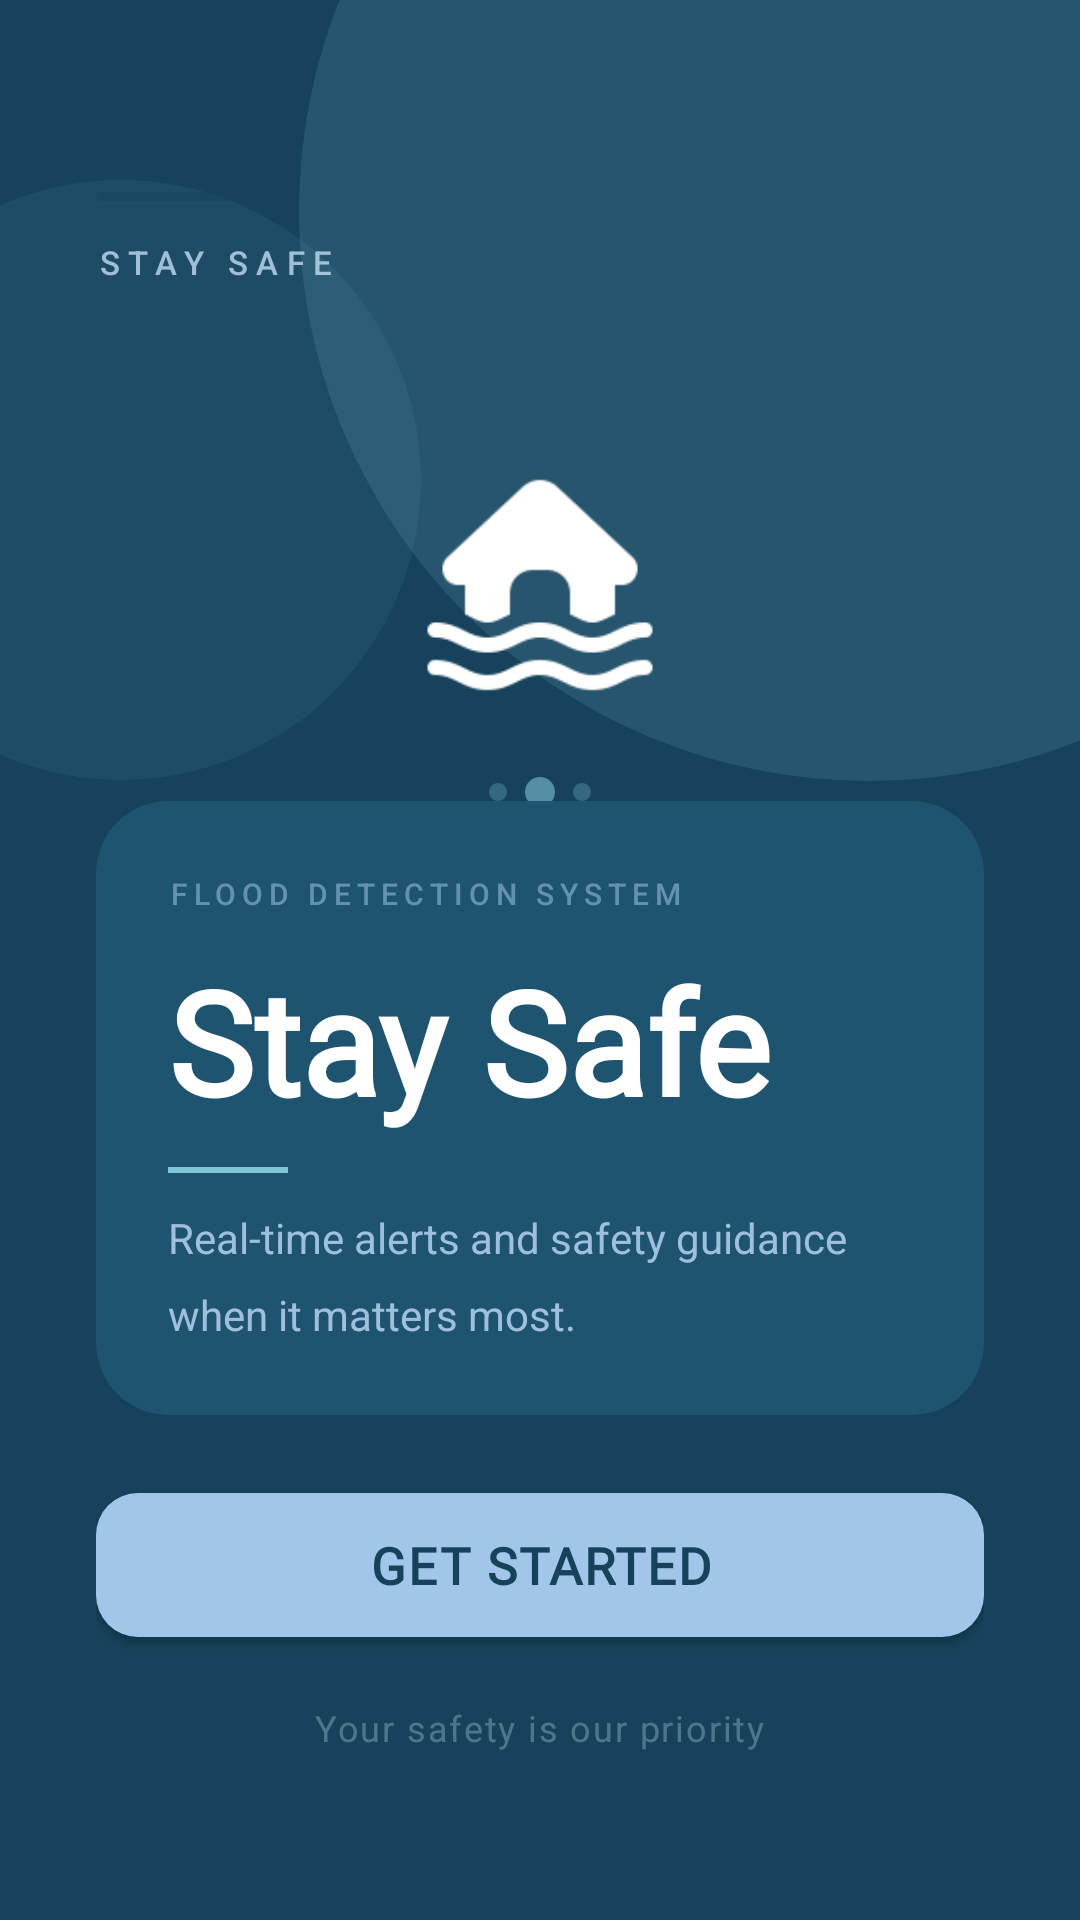

Named icons in this screenshot (1080px x 1920px) and their centers, (x=x, y=y):
floodedhouse: (x=540, y=585)
